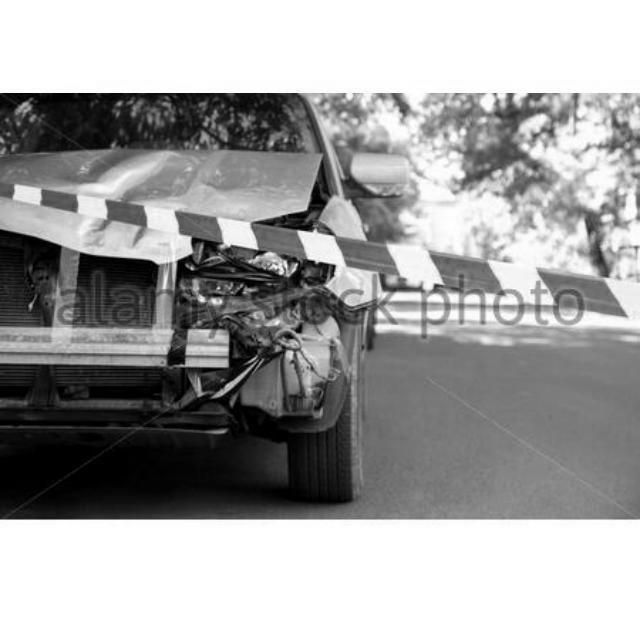bonnet-dent: (0, 147, 318, 257)
